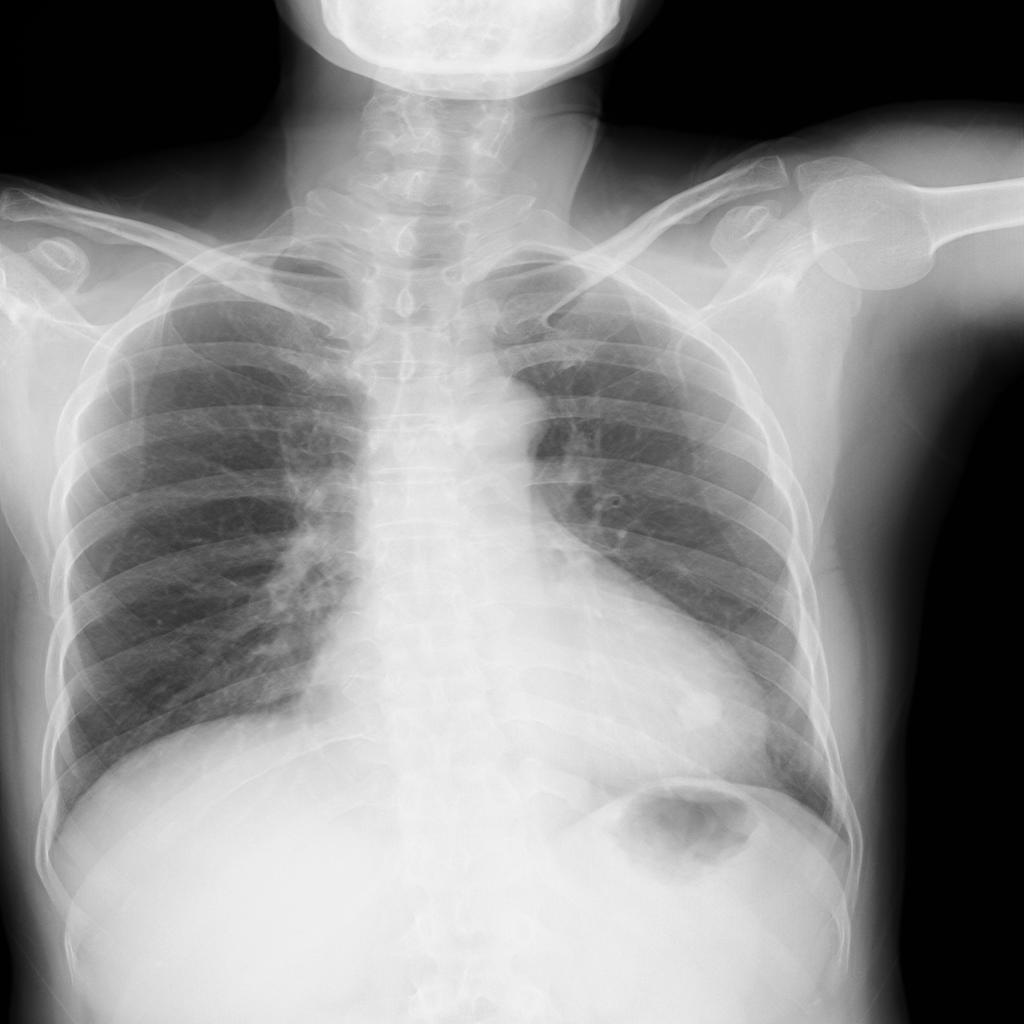Nodule: (674, 687, 725, 730)
